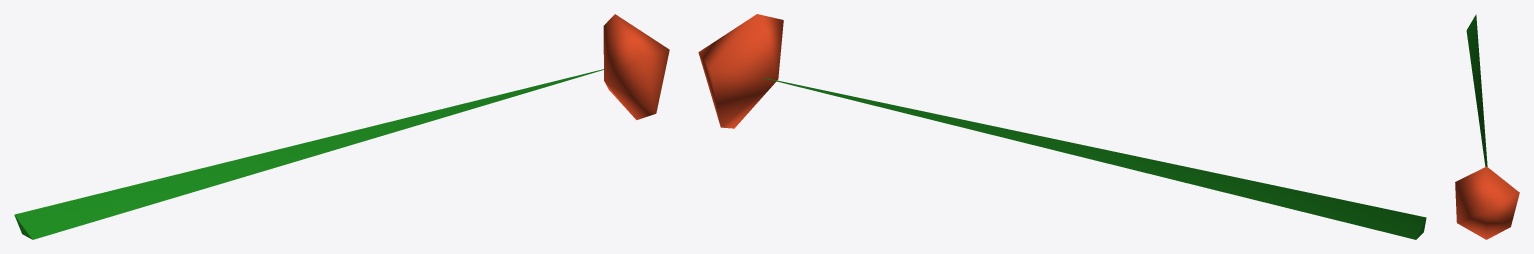
File: whThymeRotten.glb
The picture shows the model from 3 angles, left to right: view 1: azimuth 30°, elevation 25°; view 2: azimuth 150°, elevation 25°; view 3: azimuth 270°, elevation 25°; orthographic projection. The views are drawn at different scales.
Visible parts, largest first — view 1: Icosphere.002, Icosphere.001; view 2: Icosphere.002, Icosphere.001; view 3: Icosphere.001, Icosphere.002.
Part boxes in pixels (left/top/right/bottom): Icosphere.002: left=14, top=69, right=603, bottom=239; Icosphere.001: left=603, top=14, right=669, bottom=119; Icosphere.002: left=764, top=77, right=1426, bottom=239; Icosphere.001: left=698, top=14, right=783, bottom=128; Icosphere.001: left=1455, top=166, right=1519, bottom=239; Icosphere.002: left=1466, top=14, right=1487, bottom=166.
Bounding box in the file's own units: 0.4621 × 0.074 × 0.0645.
